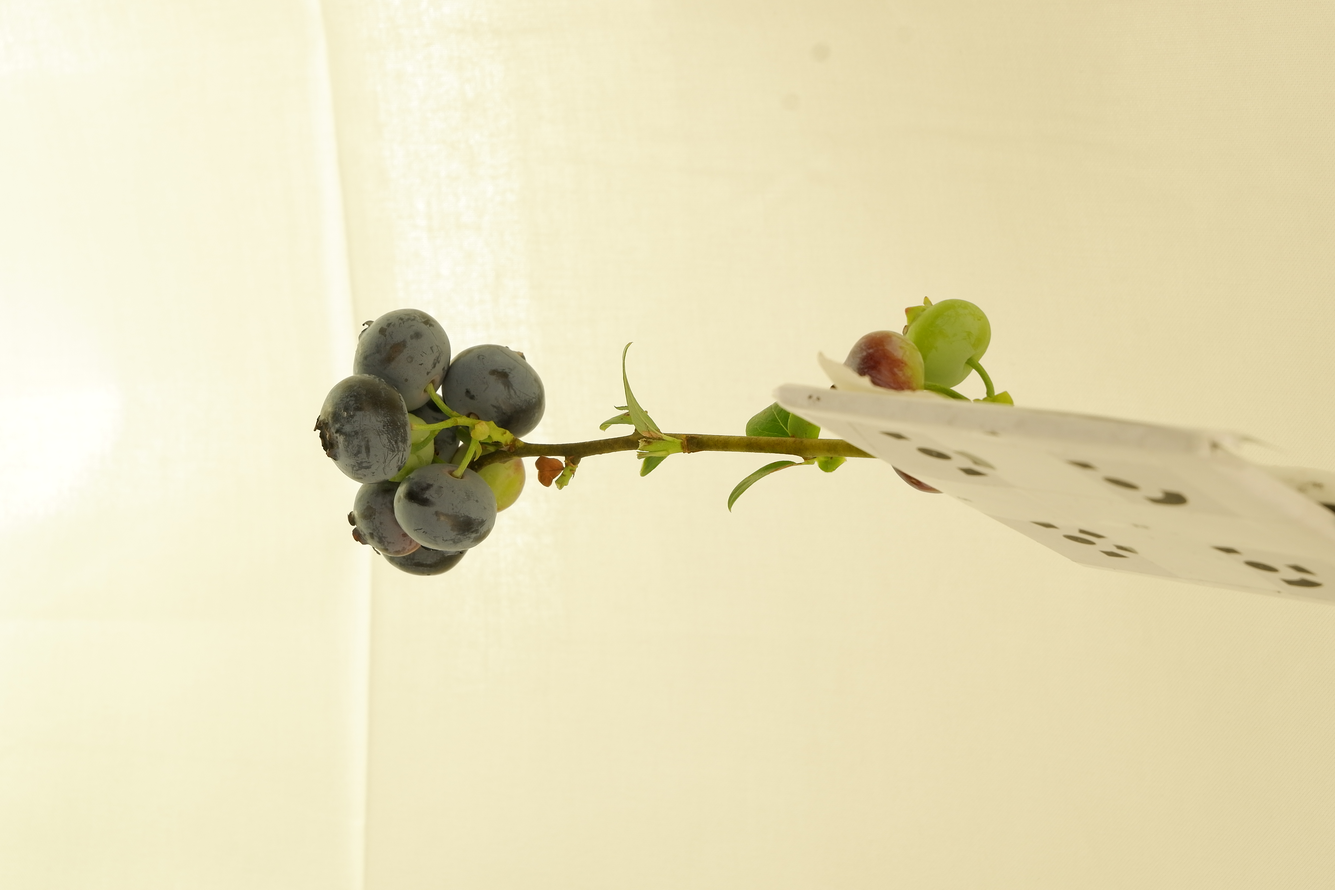Immature: (354, 309, 451, 411), (904, 298, 990, 387), (451, 443, 526, 513), (842, 333, 923, 391), (384, 412, 435, 483), (892, 465, 942, 494)
Mature: (319, 374, 411, 485), (441, 345, 546, 438), (395, 464, 496, 551), (347, 480, 422, 557), (407, 392, 460, 464), (380, 546, 467, 576)
